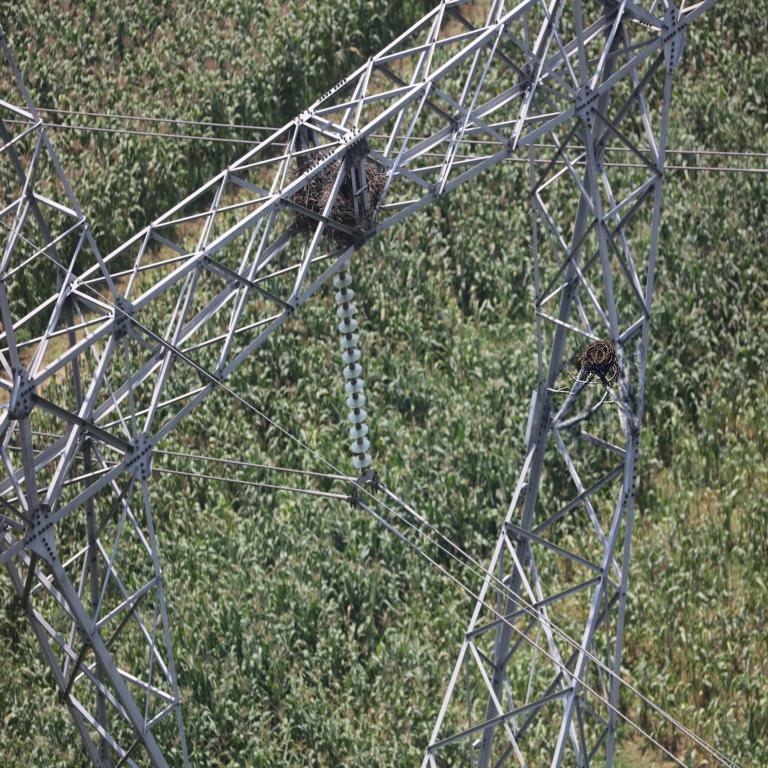nest: (287, 152, 385, 244), (574, 340, 618, 383)
